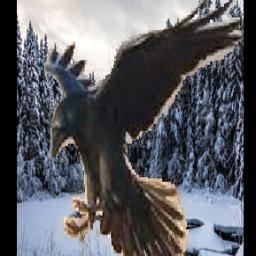Crow: (46, 0, 244, 256)
